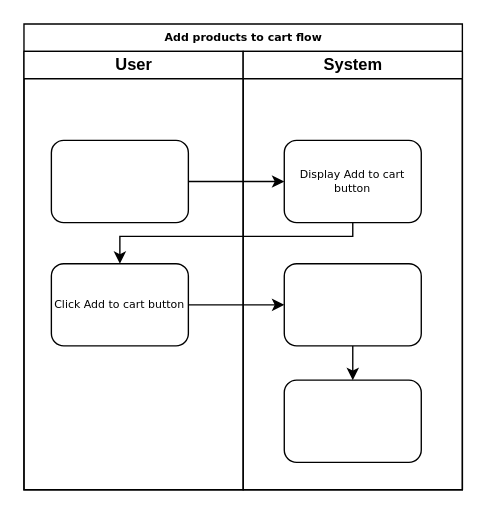
This 486x514 diagram has some shape labels left out. The shapes that lost their labels are listed below. From the top down, each one's centre as x and y in pixels, then its label:
the point at 119,181: Hover over product
the point at 352,304: Add product to cart
the point at 352,420: Display cart modal
